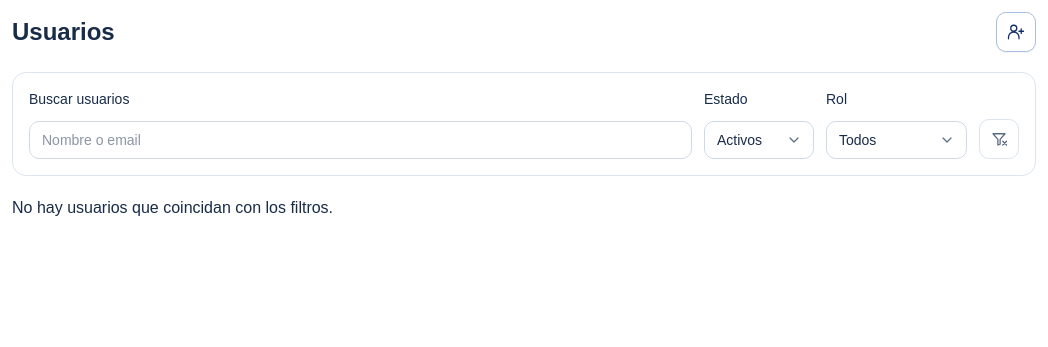
Test: renders safe details with editing and status controls
Select "Inactivos" in the dropdown labelled "Estado": [759, 140] box [704,121,814,159]
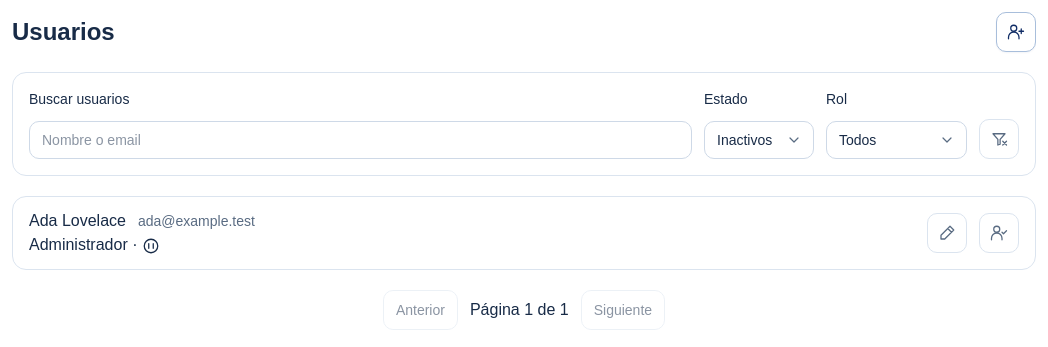
Now the text "ada@example.test" is shown, box [138,211,255,231]
Now the text "Administrador ·" is shown, box [29,236,160,255]
Now the picture named "Inactivo" is shown, box [142,236,160,253]
